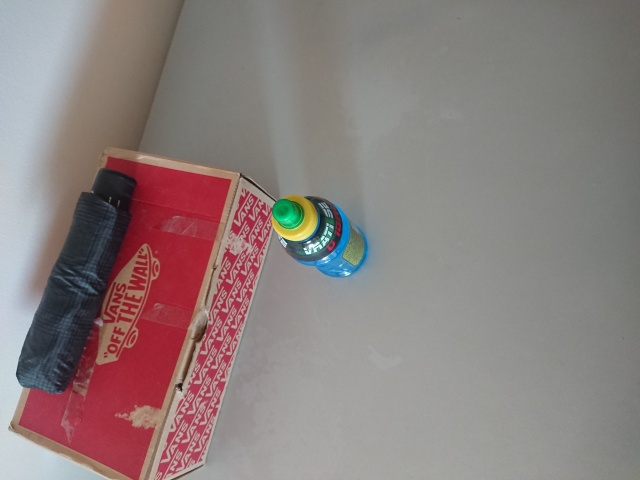Vindi Iso Sport Forest Strawberries 500mL: (268, 193, 370, 280)
